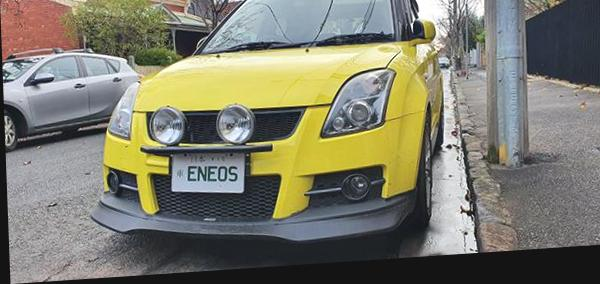License_Plate: (167, 143, 253, 202)
